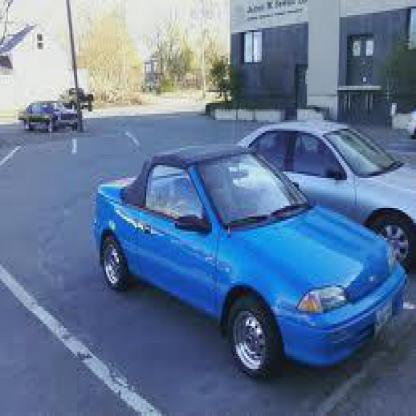Vehicle: (92, 144, 411, 384)
